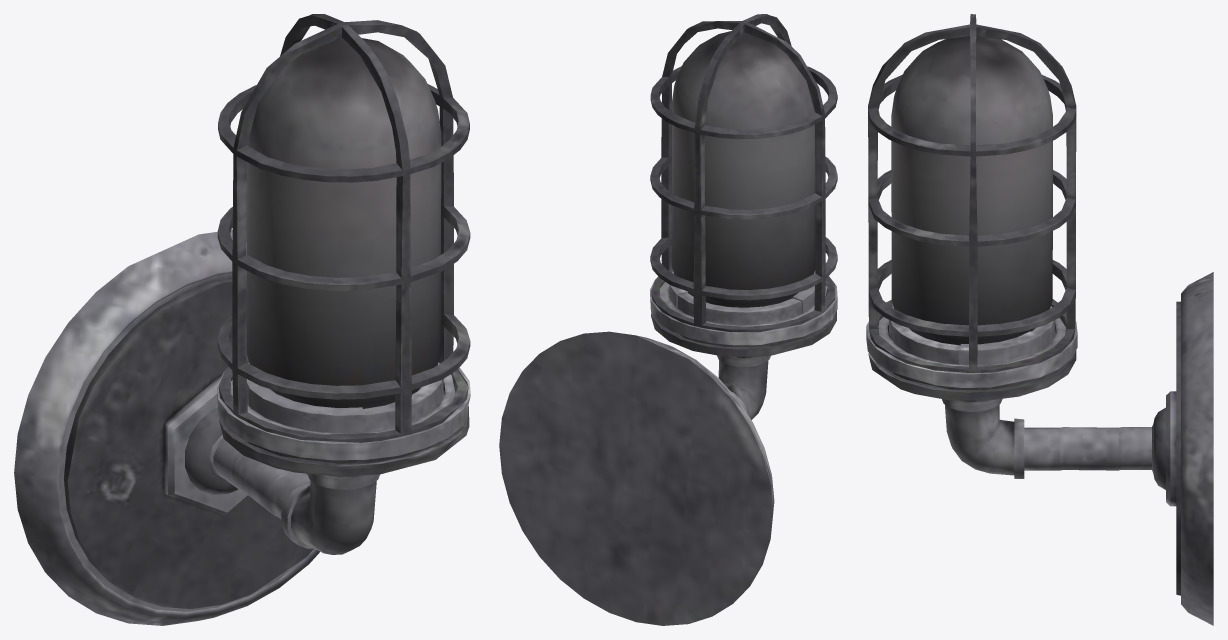
The model's file is industrial_caged_sconce-a.glb.
3 renders of one model, left to right at view 1: azimuth 30°, elevation 25°; view 2: azimuth 150°, elevation 25°; view 3: azimuth 270°, elevation 25°, orthographic. The views are drawn at different scales.
Visible parts, largest first — view 1: industrial_caged_sconce_a; view 2: industrial_caged_sconce_a; view 3: industrial_caged_sconce_a.
Part boxes in pixels (x1,y1,x2,y2): industrial_caged_sconce_a: (14,14,470,625); industrial_caged_sconce_a: (499,14,837,625); industrial_caged_sconce_a: (866,14,1213,625).
Size of the model in its own units: 0.2102 by 0.3819 by 0.2059.
Materials: 1 (1 with a texture image).
